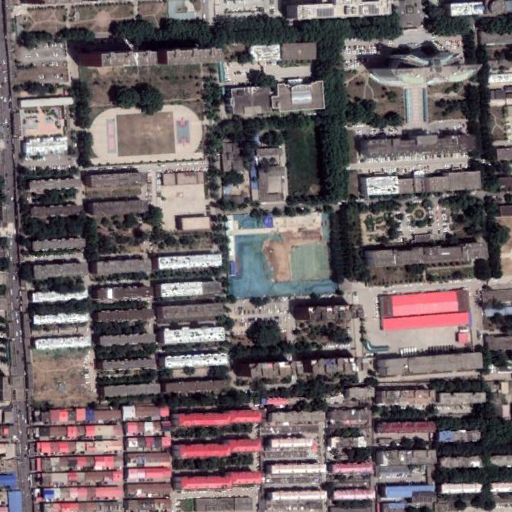cw: (228, 214, 338, 297)
